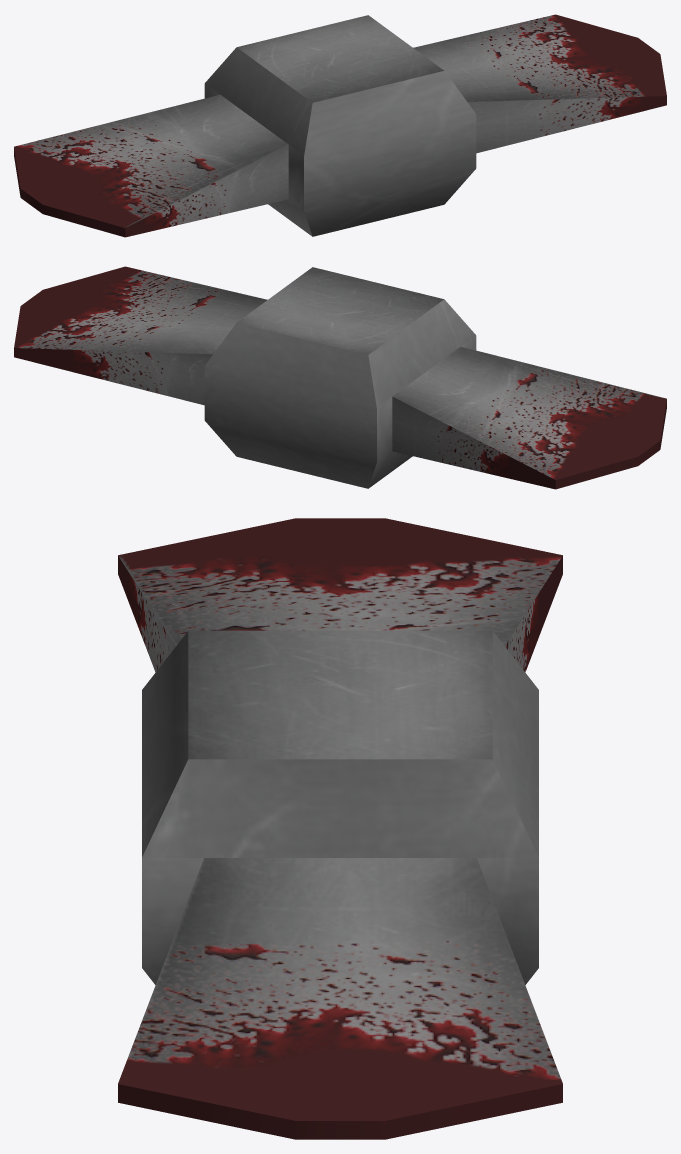
Rendered from pervane.FBX.
3 views of the same model, one above another, from view 1: azimuth 30°, elevation 25°; view 2: azimuth 150°, elevation 25°; view 3: azimuth 270°, elevation 25° (orthographic). The views are drawn at different scales.
Parts seen in each view (by area): view 1: Box01; view 2: Box01; view 3: Box01.
Part boxes in pixels (<box>): Box01: <box>14,14,666,237</box>; Box01: <box>14,266,666,489</box>; Box01: <box>118,518,562,1139</box>.
Bounding box in the file's own units: 651 × 135 × 203.
